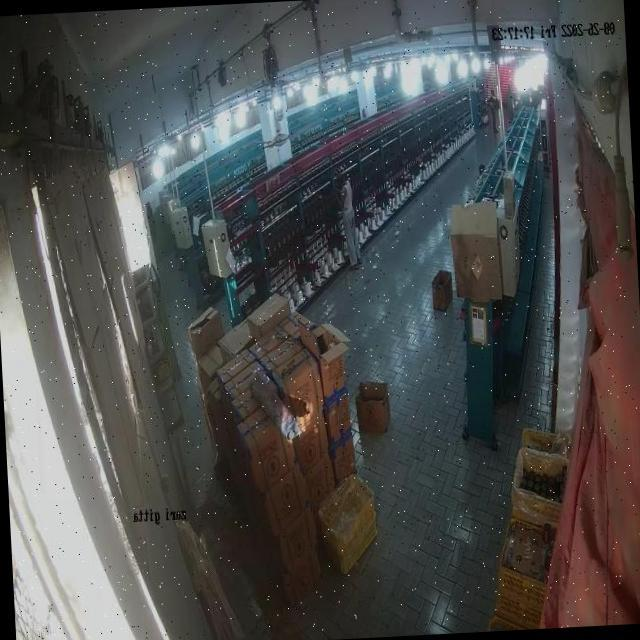person: (341, 165, 362, 274)
